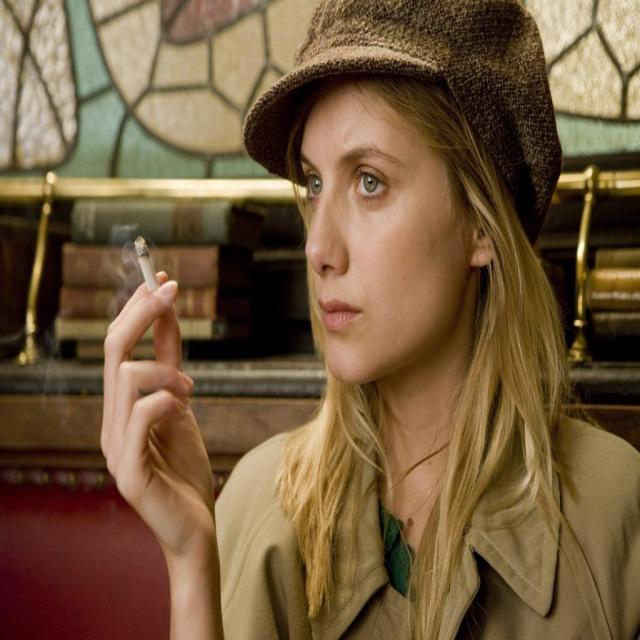smoking: (98, 0, 518, 544)
